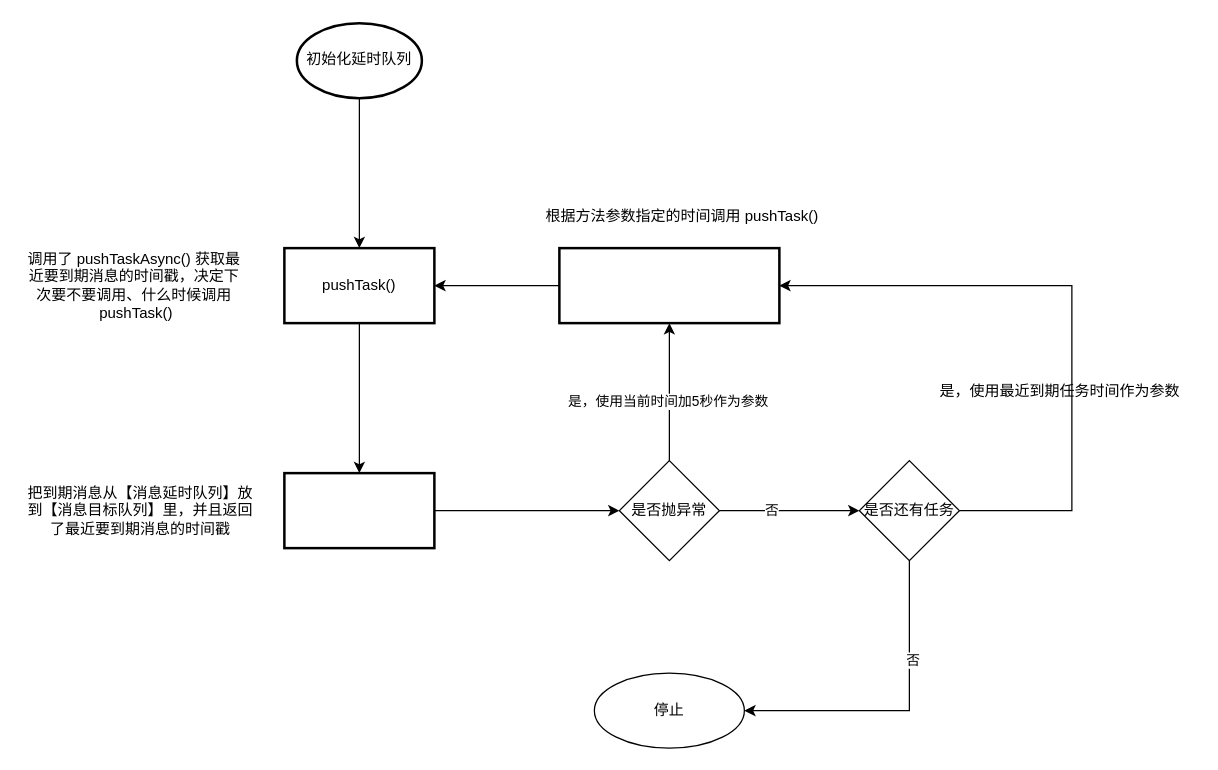
Image size: 1218x770. Some labels were removed from this diagram. The shapes that lost their labels are listed below. From the top down, each one's box as (x1, y1, x2, y2) in pixels, then its label:
(558, 246, 780, 324): scheduleTask(startTime) 注：有旧任务的话会cancel
(282, 471, 435, 549): pushTaskAsync()
